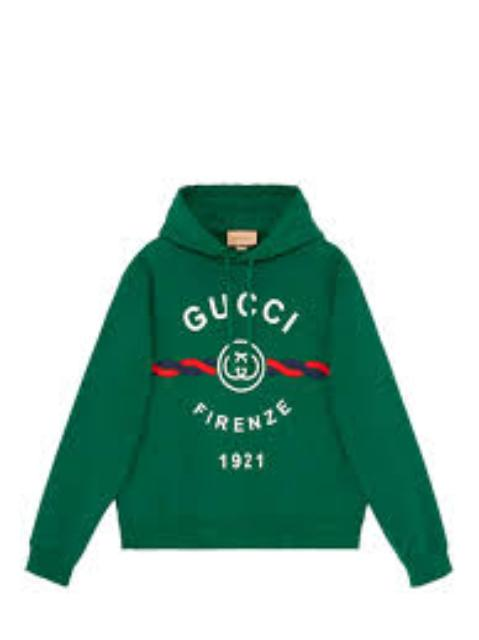Gucci: (165, 284, 323, 340)
